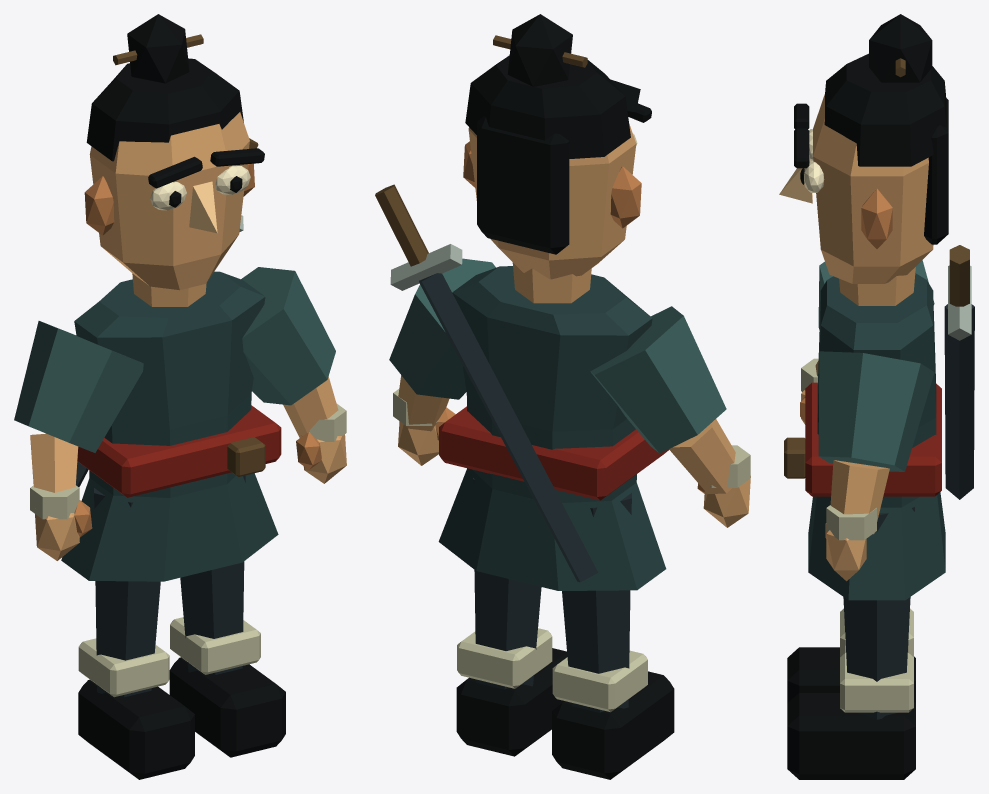
Rendered from InkSwordsman.fbx.
3 renders of one model, left to right at view 1: azimuth 30°, elevation 25°; view 2: azimuth 150°, elevation 25°; view 3: azimuth 270°, elevation 25°, orthographic. The views are drawn at different scales.
Parts seen in each view (by area): view 1: InkSwordsman_Sample; view 2: InkSwordsman_Sample; view 3: InkSwordsman_Sample.
Boxes of the visible parts, <box> form: InkSwordsman_Sample: <box>14,14,346,779</box>; InkSwordsman_Sample: <box>375,14,750,779</box>; InkSwordsman_Sample: <box>779,14,974,779</box>.
Bounding box in the file's own units: 112 × 239 × 58.
Materials: 1 (1 with a texture image).
